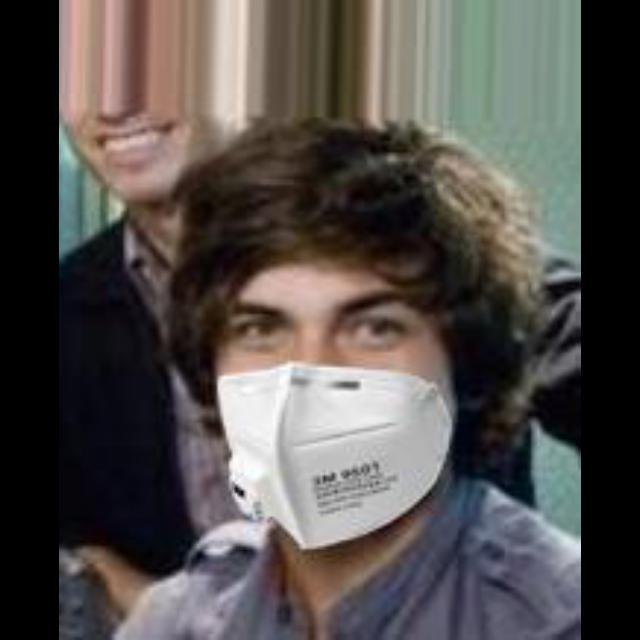suspicion: (140, 200, 550, 580)
